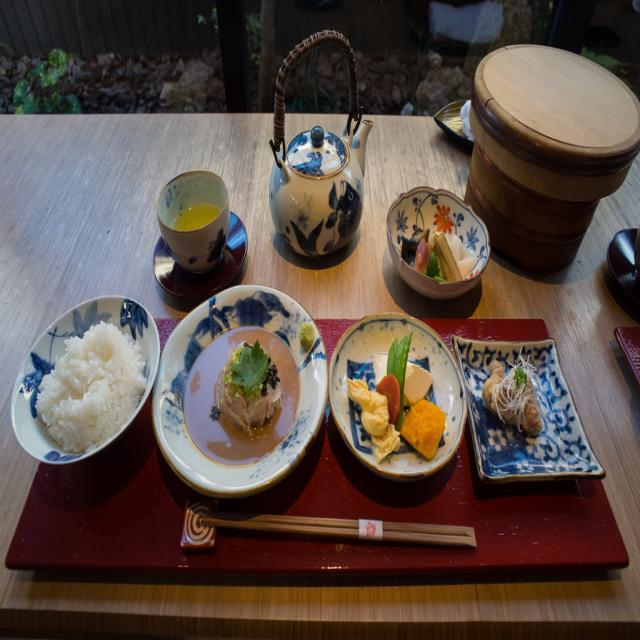ceramic plate: (153, 284, 326, 516), (444, 319, 619, 511), (326, 307, 472, 493), (7, 294, 160, 466)
